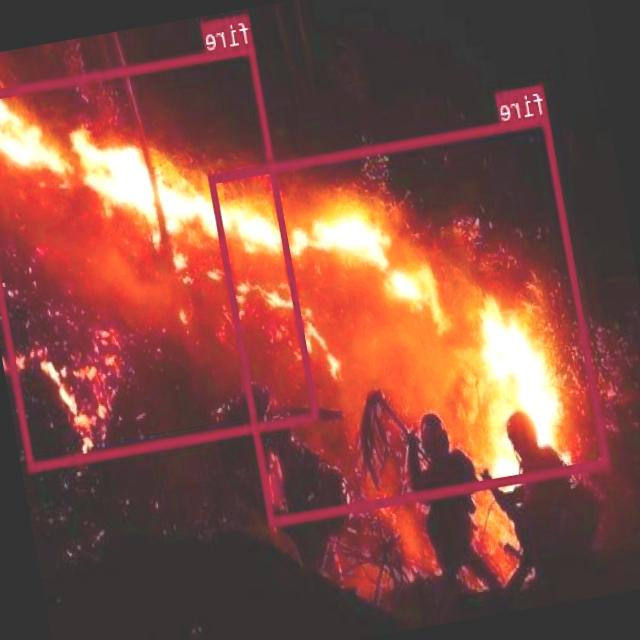fire: (208, 113, 610, 524), (0, 43, 319, 468)
